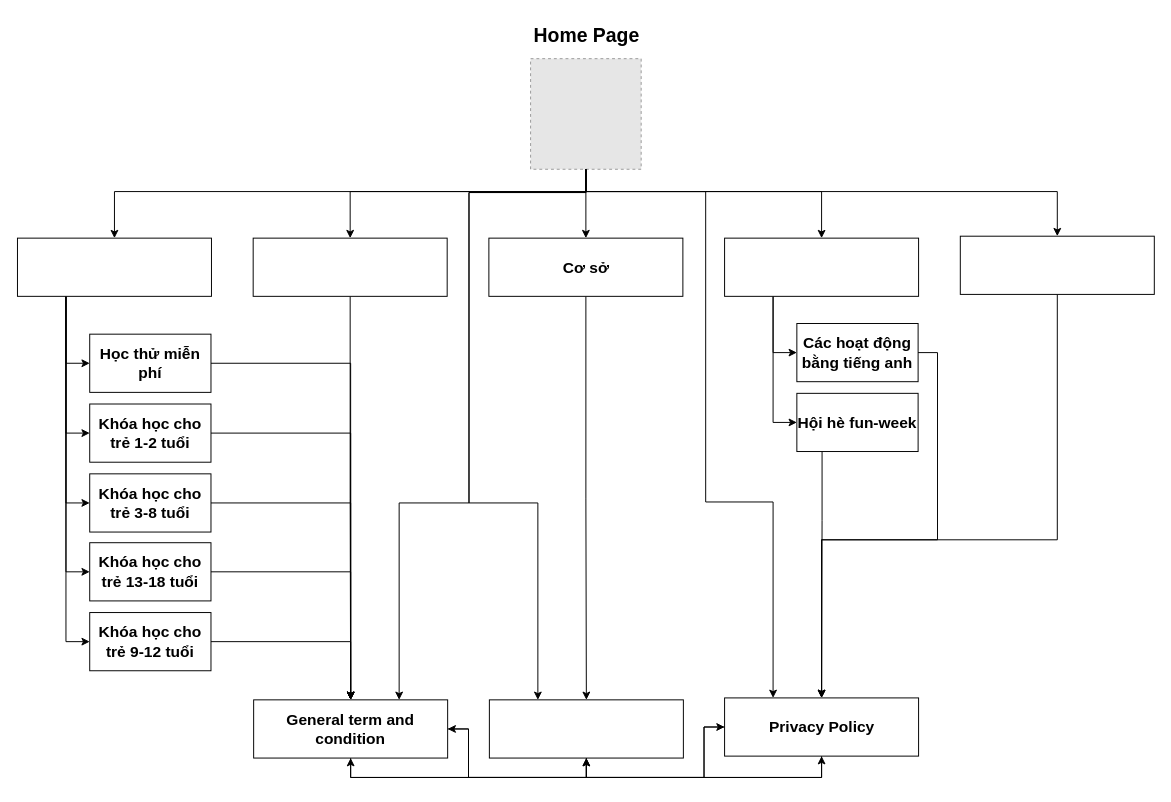
Image size: 1171x802. Some labels were removed from this diagram. Grey dashed boxes stand in for pictures. The shapes that lost their labels are listed below. From the top down, each one's centre as x and y in pixels, then its label:
At pixel 113 266: "Các khóa học".
At pixel 349 266: "Các phương pháp".
At pixel 821 266: "Các hoạt động".
At pixel 1056 264: "Đăng ký".
At pixel 585 728: "Rules & Regulation".
